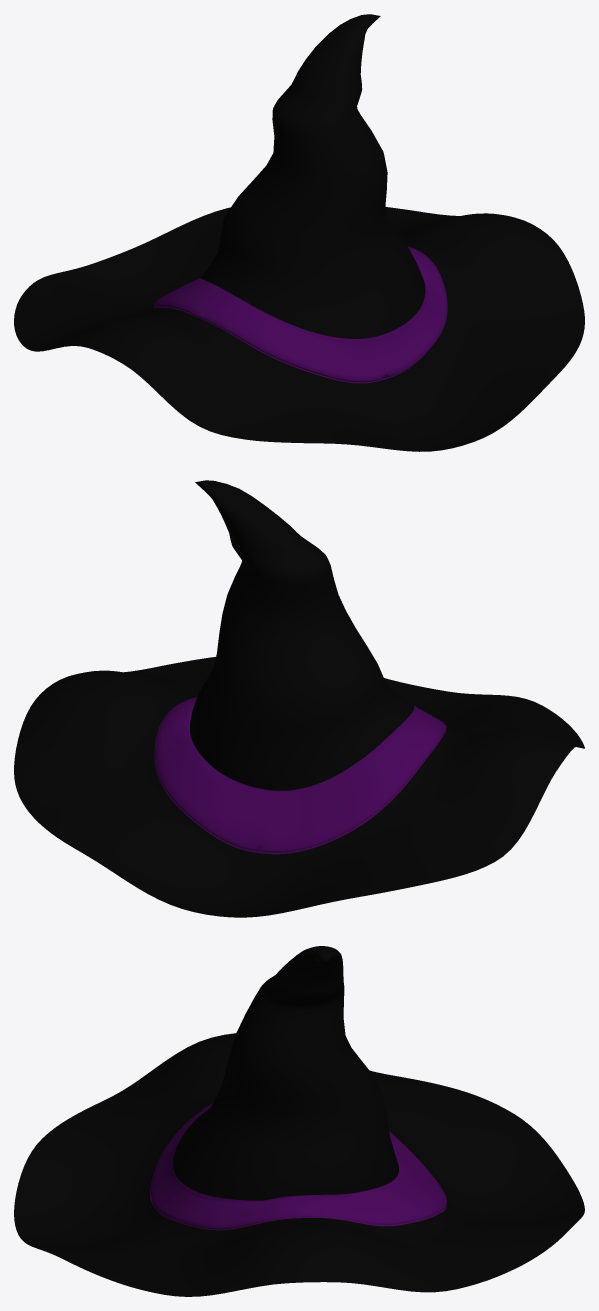
The model's file is Topi Sihir.fbx.
3 renders of one model, top to bottom at view 1: azimuth 30°, elevation 25°; view 2: azimuth 150°, elevation 25°; view 3: azimuth 270°, elevation 25°, orthographic.
Parts seen in each view (by area): view 1: pSphere3; view 2: pSphere3; view 3: pSphere3.
Boxes of the visible parts, x1=… form: pSphere3: x1=14, y1=14, x2=584, y2=451; pSphere3: x1=14, y1=480, x2=584, y2=917; pSphere3: x1=14, y1=946, x2=584, y2=1296.
Size of the model in its own units: 9.15 by 5.75 by 9.34.
